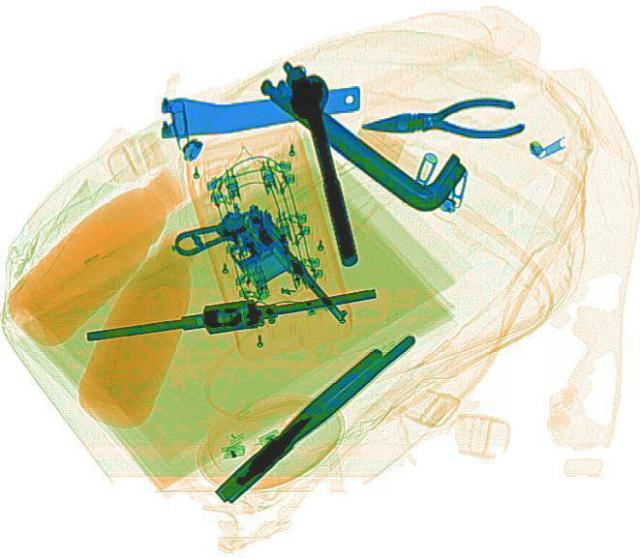Gun: (165, 193, 349, 362)
Pliers: (359, 93, 526, 147)
